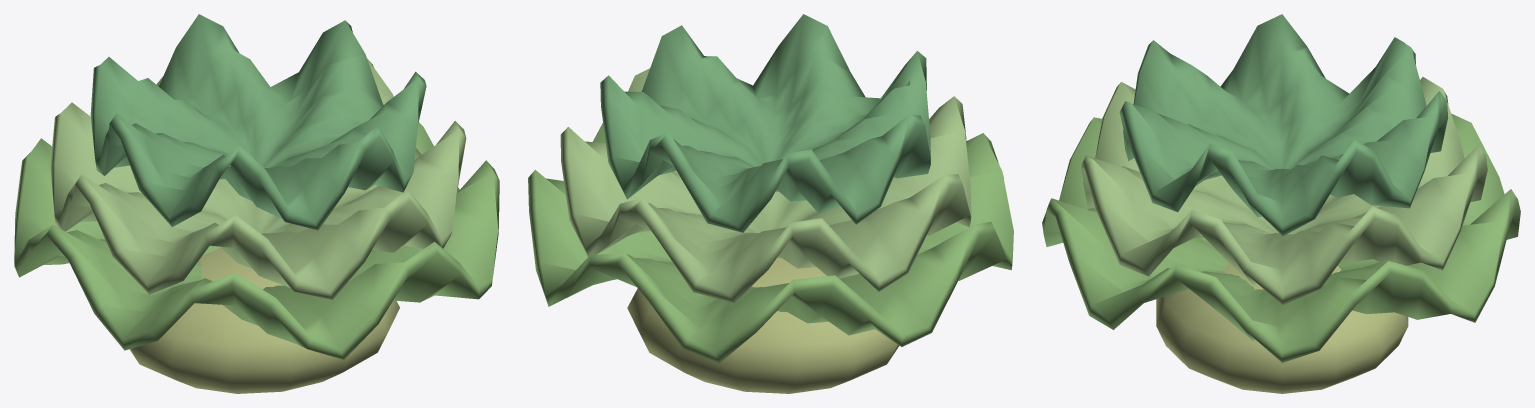
Rendered from lettuce.glb.
3 renders of one model, left to right at view 1: azimuth 30°, elevation 25°; view 2: azimuth 150°, elevation 25°; view 3: azimuth 270°, elevation 25°, orthographic.
Visible parts, largest first — view 1: food_lettuce_painted_mesh; view 2: food_lettuce_painted_mesh; view 3: food_lettuce_painted_mesh.
Boxes of the visible parts, left/top/right/bottom form: food_lettuce_painted_mesh: left=14, top=14, right=499, bottom=393; food_lettuce_painted_mesh: left=528, top=14, right=1013, bottom=393; food_lettuce_painted_mesh: left=1042, top=14, right=1520, bottom=393.
Bounding box in the file's own units: 0.9615 × 0.6374 × 0.9632.
